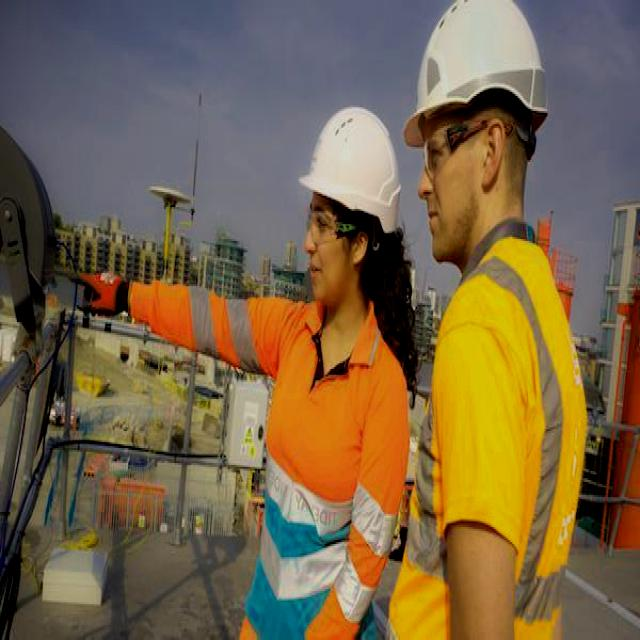face_nomask: (414, 113, 475, 256), (301, 192, 358, 307)
glasses: (423, 124, 457, 184), (302, 204, 341, 252)
hand_glove: (74, 243, 127, 327)
head_helmet: (408, 2, 541, 134), (302, 104, 401, 204)
person: (402, 0, 602, 638), (248, 113, 408, 640)
